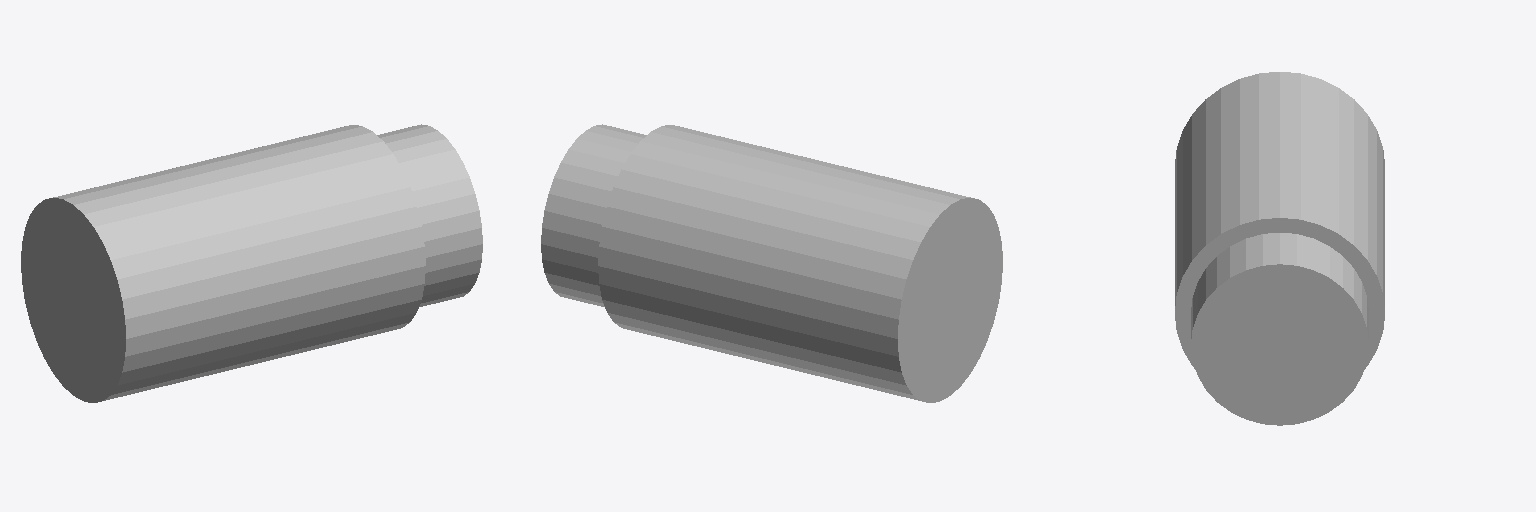
The model's file is up_glucose_bottle.obj.
3 views of the same model, side by side, from view 1: azimuth 30°, elevation 25°; view 2: azimuth 150°, elevation 25°; view 3: azimuth 270°, elevation 25° (orthographic).
Size of the model in its own units: 0.14 by 0.07 by 0.07.